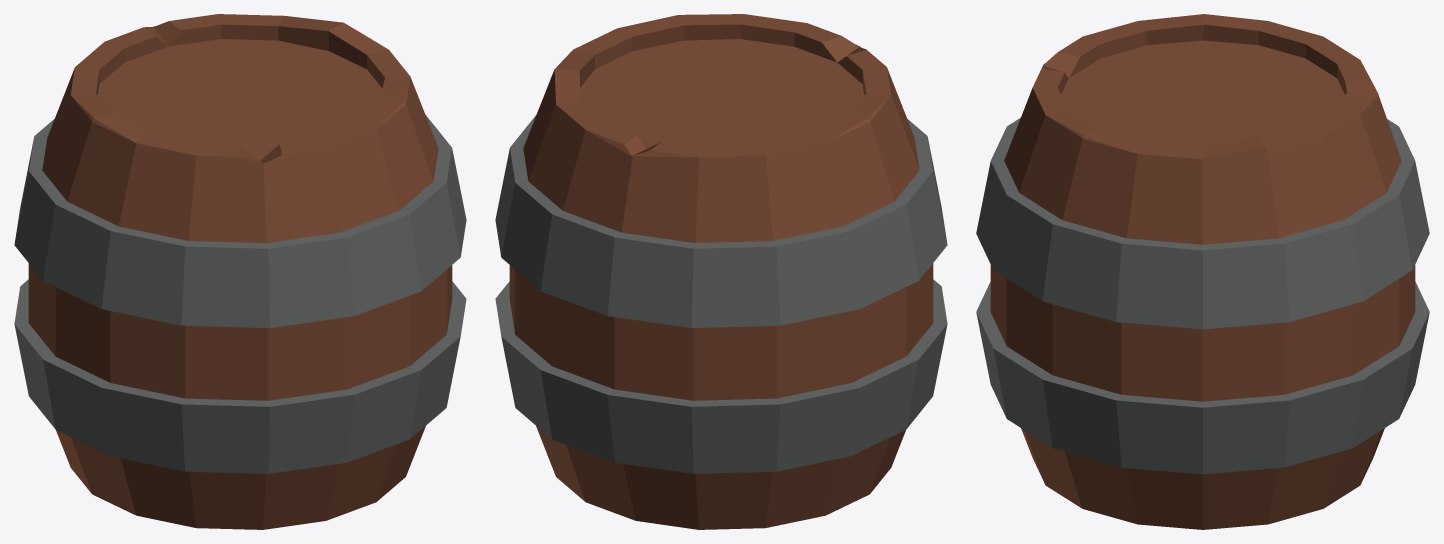
The model's file is Barrel.fbx.
3 views of the same model, side by side, from view 1: azimuth 30°, elevation 25°; view 2: azimuth 150°, elevation 25°; view 3: azimuth 270°, elevation 25° (orthographic).
Visible parts, largest first — view 1: Cylinder; view 2: Cylinder; view 3: Cylinder.
Boxes of the visible parts, box(x1,y1,x2,y2) form: Cylinder: box(14, 14, 466, 529); Cylinder: box(495, 14, 947, 529); Cylinder: box(976, 14, 1429, 529).
Bounding box in the file's own units: 266 × 244 × 266.
